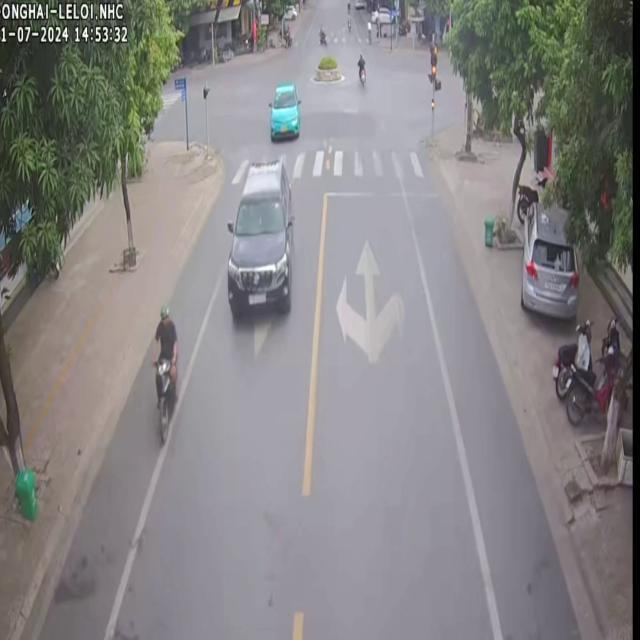car: (226, 158, 293, 318), (519, 200, 578, 316), (268, 80, 298, 137)
motobike: (564, 351, 619, 424), (150, 303, 177, 440), (550, 320, 590, 396)
stop_line: (326, 190, 437, 197)
yellow_light: (427, 40, 436, 84)
